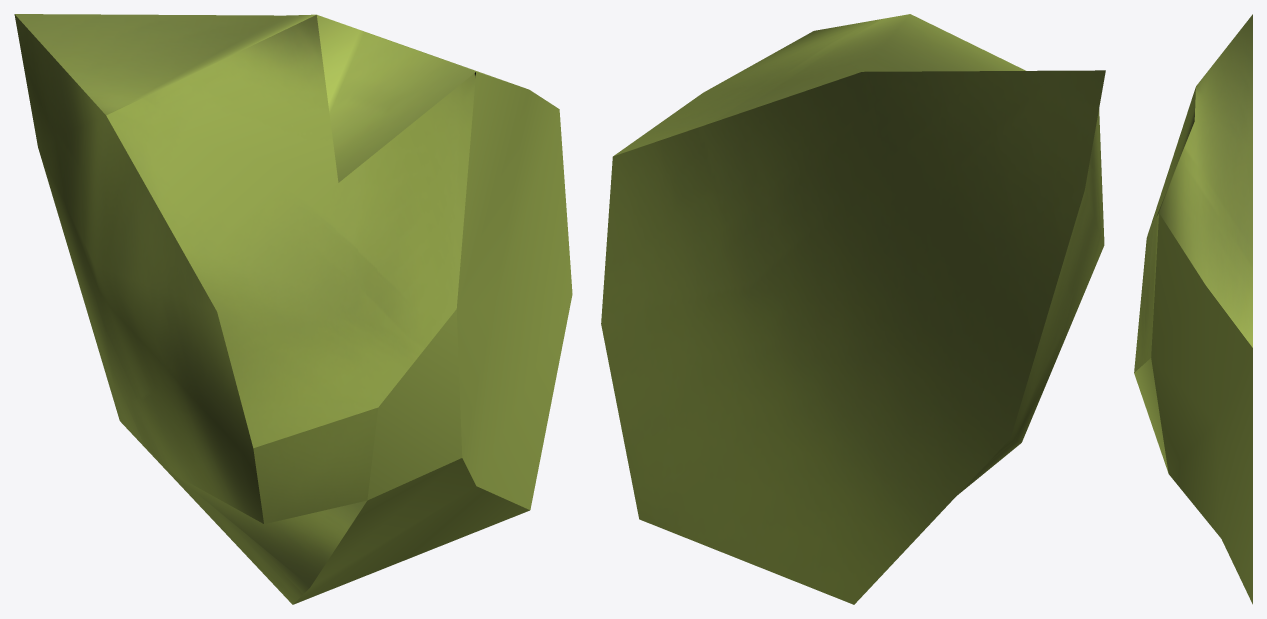
File: pile.obj
3 views of the same model, side by side, from view 1: azimuth 30°, elevation 25°; view 2: azimuth 150°, elevation 25°; view 3: azimuth 270°, elevation 25° (orthographic). The views are drawn at different scales.
Visible parts, largest first — view 1: Cube.001; view 2: Cube.001; view 3: Cube.001.
Boxes of the visible parts, <box> form: Cube.001: <box>14,14,572,604</box>; Cube.001: <box>601,14,1105,604</box>; Cube.001: <box>1134,14,1252,604</box>.
Bounding box in the file's own units: 8.31 × 9.38 × 2.27.
1 material, 1 textured.
